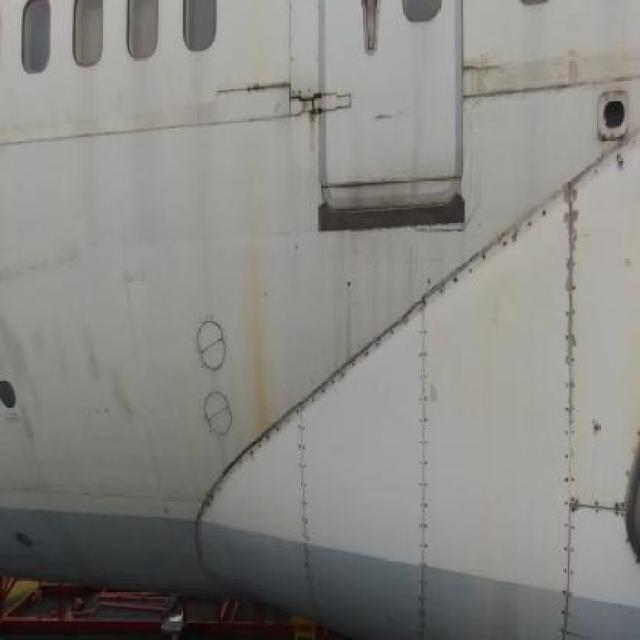Missing-Rivet: (557, 167, 585, 624), (435, 208, 551, 312), (321, 315, 410, 413), (412, 284, 433, 630), (292, 397, 319, 598), (214, 415, 291, 483), (590, 482, 632, 540)
Rust: (237, 183, 280, 445), (304, 97, 324, 166)
Scartch: (0, 232, 169, 450), (463, 42, 591, 153)
